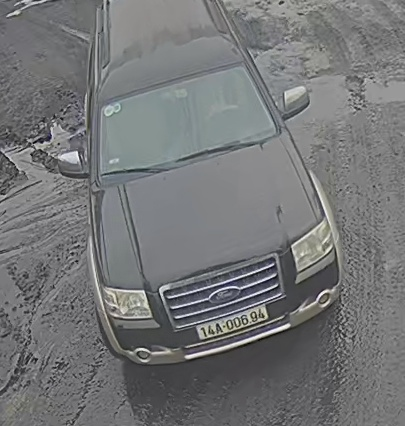vehicle plate: (193, 304, 281, 339)
